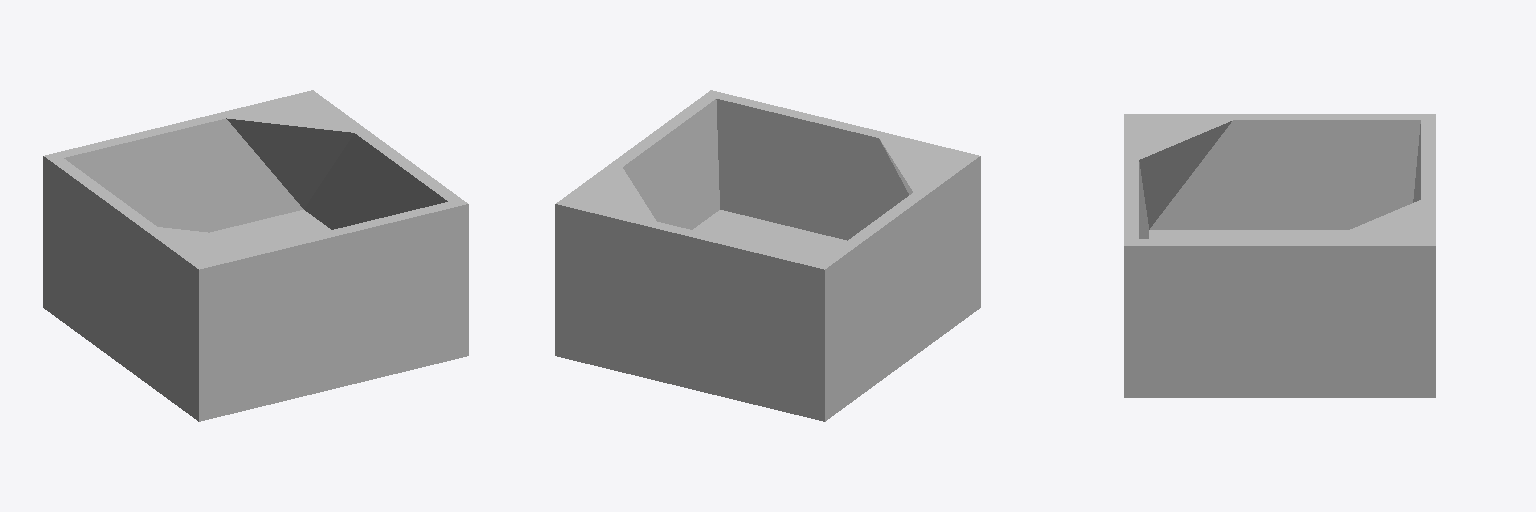
The model's file is spicerack.obj.
3 renders of one model, left to right at view 1: azimuth 30°, elevation 25°; view 2: azimuth 150°, elevation 25°; view 3: azimuth 270°, elevation 25°, orthographic.
Parts seen in each view (by area): view 1: Cube; view 2: Cube; view 3: Cube.
Boxes of the visible parts, box(x1,y1,x2,y2) form: Cube: box(43, 90, 468, 421); Cube: box(555, 90, 980, 421); Cube: box(1124, 114, 1435, 397).
Bounding box in the file's own units: 2 × 1.08 × 2.